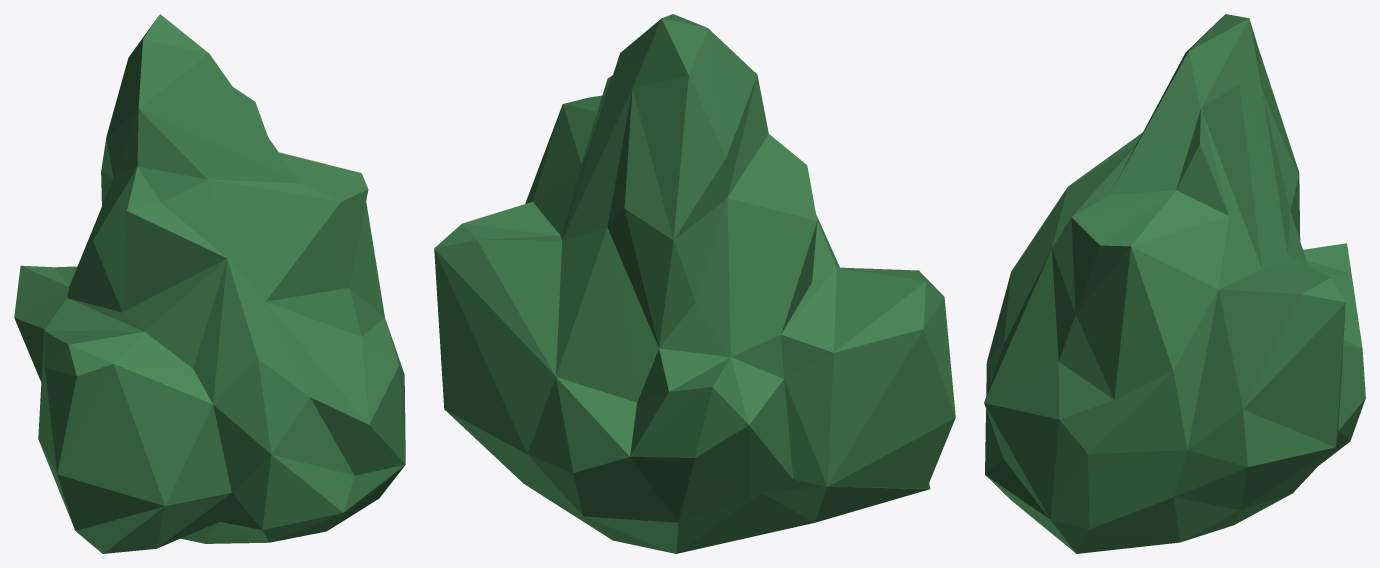
File: SM_Env_Bush_02-optimized.glb
The picture shows the model from 3 angles, left to right: view 1: azimuth 30°, elevation 25°; view 2: azimuth 150°, elevation 25°; view 3: azimuth 270°, elevation 25°; orthographic projection. The views are drawn at different scales.
Visible parts, largest first — view 1: SM_Env_Bush_02; view 2: SM_Env_Bush_02; view 3: SM_Env_Bush_02.
Boxes of the visible parts, left/top/right/bottom form: SM_Env_Bush_02: left=14, top=14, right=405, bottom=553; SM_Env_Bush_02: left=434, top=14, right=955, bottom=553; SM_Env_Bush_02: left=984, top=14, right=1365, bottom=553.
Size of the model in its own units: 1.61 by 2.04 by 1.41.
